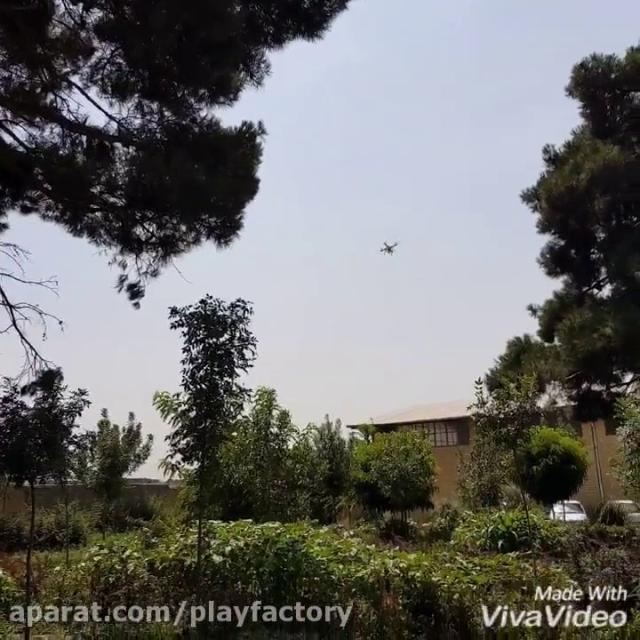drone: (375, 235, 399, 258)
